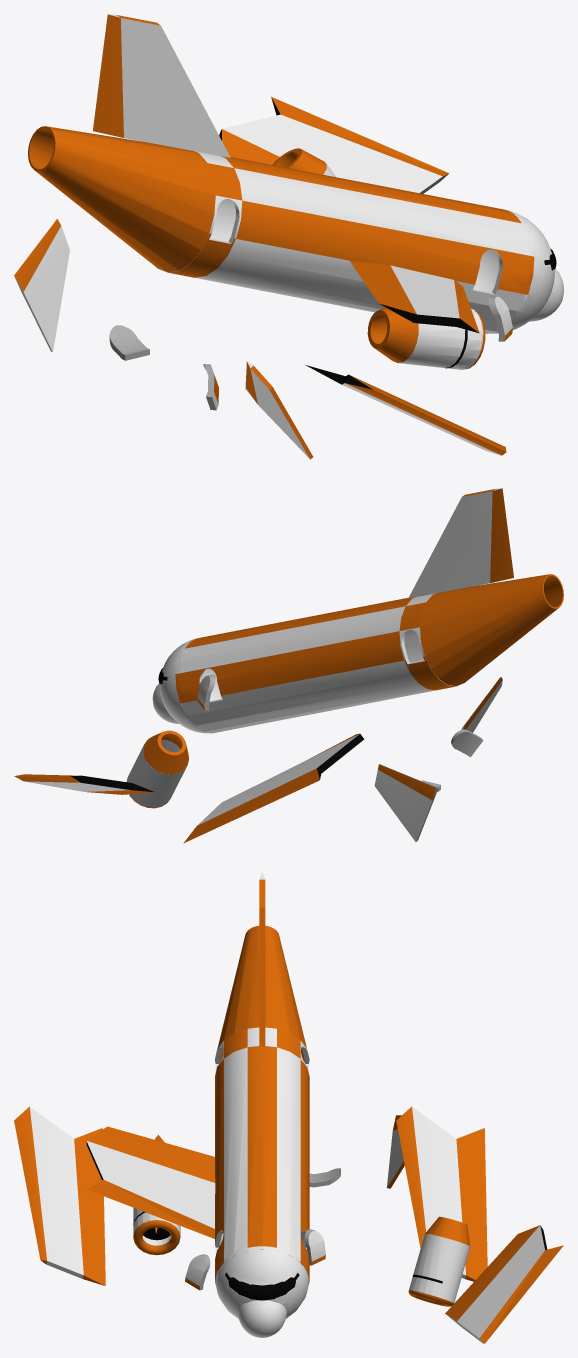
File: vliegtuig-v5-broken.fbx
The picture shows the model from 3 angles, top to bottom: view 1: azimuth 30°, elevation 25°; view 2: azimuth 150°, elevation 25°; view 3: azimuth 270°, elevation 25°; orthographic projection. The views are drawn at different scales.
Parts seen in each view (by area): view 1: pCube8, polySurface4, pasted__polySurface14, polySurface14, pPipe10, polySurface6, polySurface15, polySurface5, polySurface9, pasted__pPipe3, polySurface8; view 2: pCube8, polySurface4, pasted__polySurface15, pasted__pPipe3, polySurface6, pasted__polySurface14, polySurface5, polySurface10, polySurface7; view 3: pCube8, polySurface15, polySurface14, pasted__polySurface15, pasted__polySurface14, pasted__pPipe3, pPipe10, polySurface4, polySurface6, polySurface8, polySurface7.
Part boxes in pixels (x1,y1,x2,y2): pCube8: [28, 126, 563, 333]; polySurface4: [93, 14, 230, 157]; pasted__polySurface14: [219, 96, 448, 193]; polySurface14: [350, 261, 479, 333]; pPipe10: [367, 307, 485, 369]; polySurface6: [14, 219, 69, 352]; polySurface15: [305, 365, 506, 455]; polySurface5: [245, 361, 313, 459]; polySurface9: [109, 325, 149, 360]; pasted__pPipe3: [272, 148, 335, 176]; polySurface8: [487, 296, 512, 341]; pCube8: [152, 574, 563, 733]; polySurface4: [408, 488, 513, 598]; pasted__polySurface15: [183, 733, 364, 843]; pasted__pPipe3: [126, 730, 188, 808]; polySurface6: [374, 764, 438, 841]; pasted__polySurface14: [14, 774, 154, 794]; polySurface5: [461, 677, 502, 732]; polySurface10: [451, 729, 483, 757]; polySurface7: [197, 674, 215, 710]; pCube8: [215, 925, 309, 1337]; polySurface15: [14, 1106, 105, 1285]; polySurface14: [86, 1126, 215, 1238]; pasted__polySurface15: [396, 1106, 487, 1281]; pasted__polySurface14: [445, 1225, 563, 1343]; pasted__pPipe3: [408, 1216, 470, 1306]; pPipe10: [133, 1208, 180, 1255]; polySurface4: [259, 872, 265, 1046]; polySurface6: [387, 1115, 404, 1188]; polySurface8: [185, 1254, 210, 1290]; polySurface7: [304, 1229, 325, 1265].
Size of the model in its own units: 20.71 by 14.71 by 23.22.
